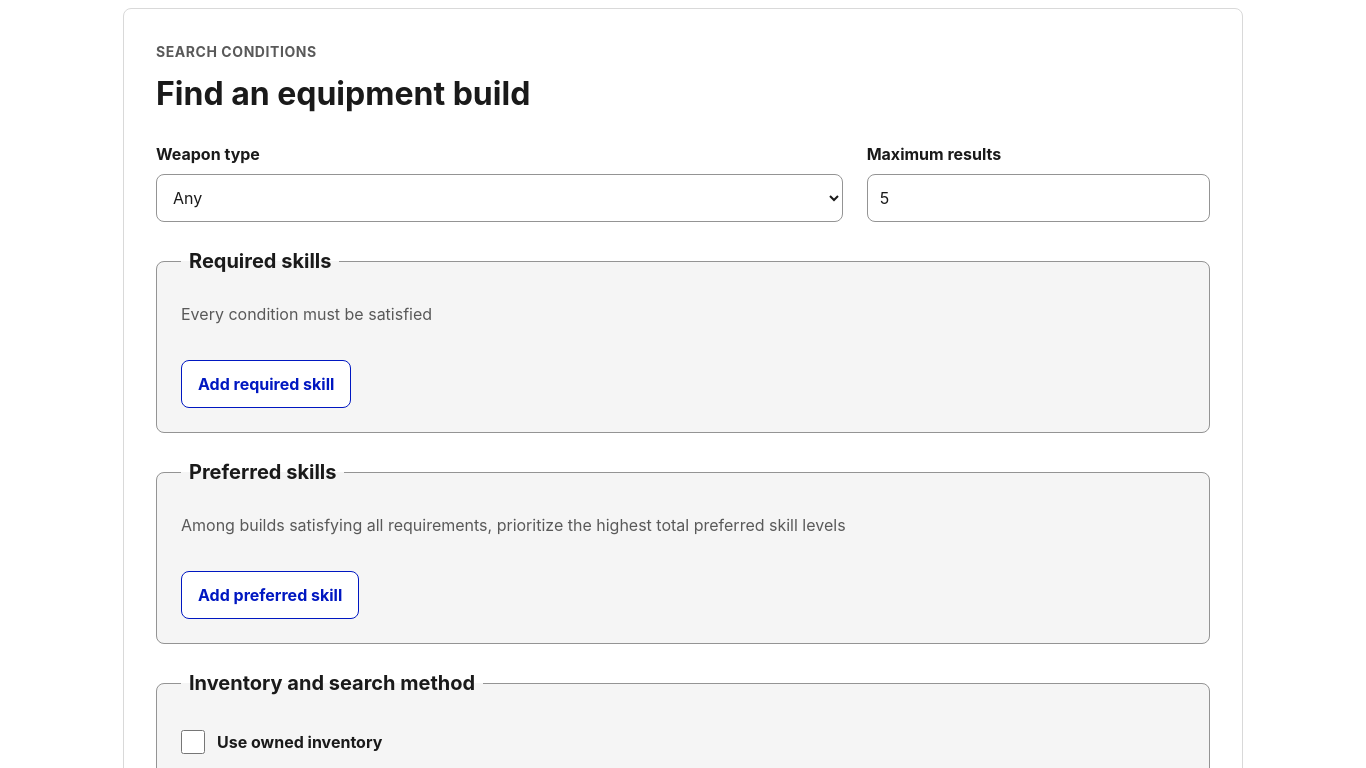
Test case: language selection › uses the saved language and retains original catalog names when the sidecar is unavailable
(page scrolled)
expect the heading "Find an equipment build" is shown: met, box left=156, top=74, right=530, bottom=113
Click the button "Add required skill".
click(266, 384)  # box left=181, top=360, right=351, bottom=408
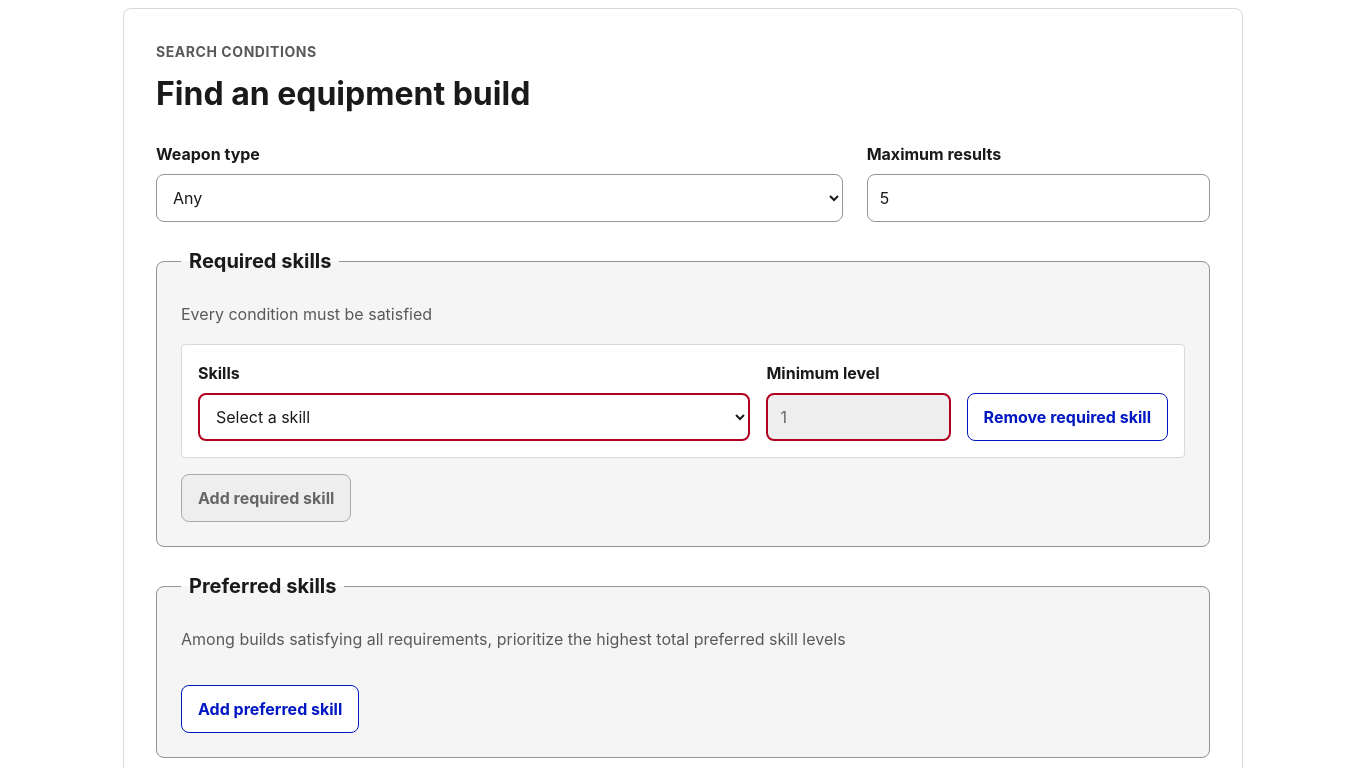
Replace the text in the number field labelled "Maximum results" with "25" at coordinates (1038, 198), box left=867, top=174, right=1210, bottom=222
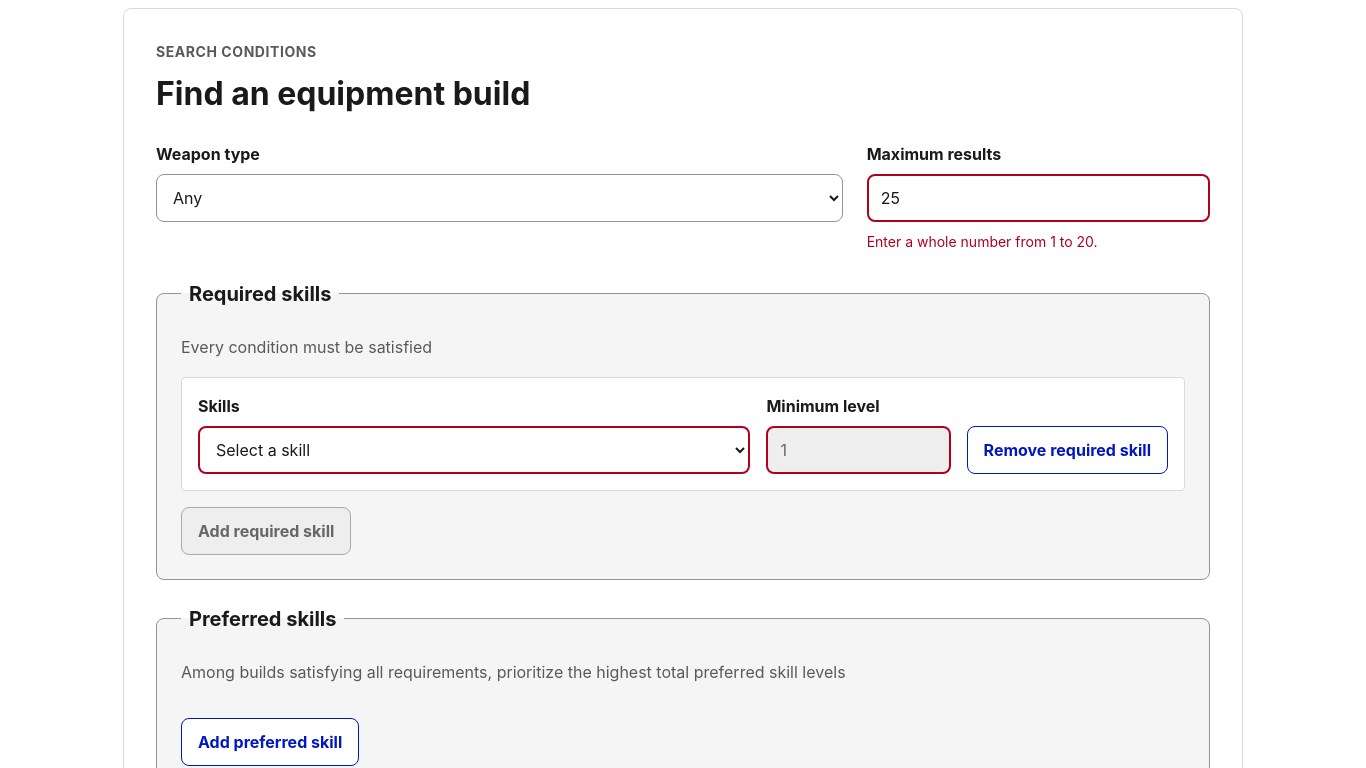
expect the text "Enter a whole number from 1 to 20." is shown: met, box left=867, top=233, right=1098, bottom=250
